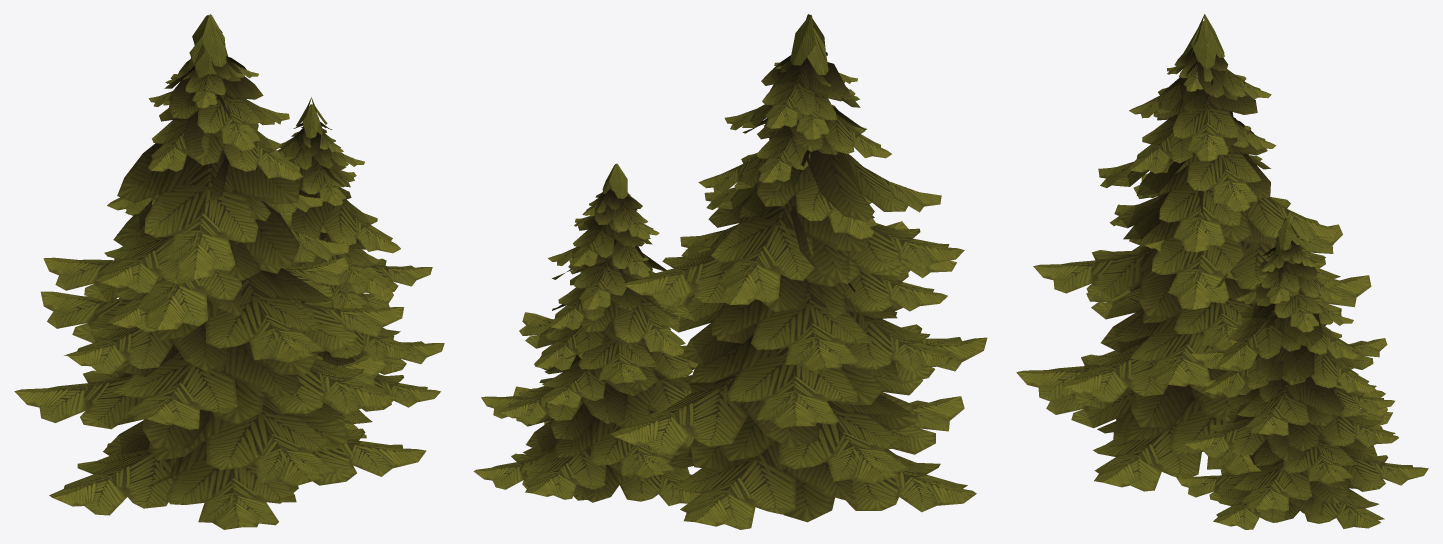
File: pine_tree_double_ver1.glb
3 renders of one model, left to right at view 1: azimuth 30°, elevation 25°; view 2: azimuth 150°, elevation 25°; view 3: azimuth 270°, elevation 25°, orthographic. The views are drawn at different scales.
Parts seen in each view (by area): view 1: Leaves/001; view 2: Leaves/001; view 3: Leaves/001.
Part boxes in pixels (<box>): Leaves/001: <box>14,14,444,529</box>; Leaves/001: <box>473,14,987,529</box>; Leaves/001: <box>1016,14,1428,529</box>.
Size of the model in its own units: 2.58 by 2.65 by 2.38.
Materials: 2 (2 with a texture image).
